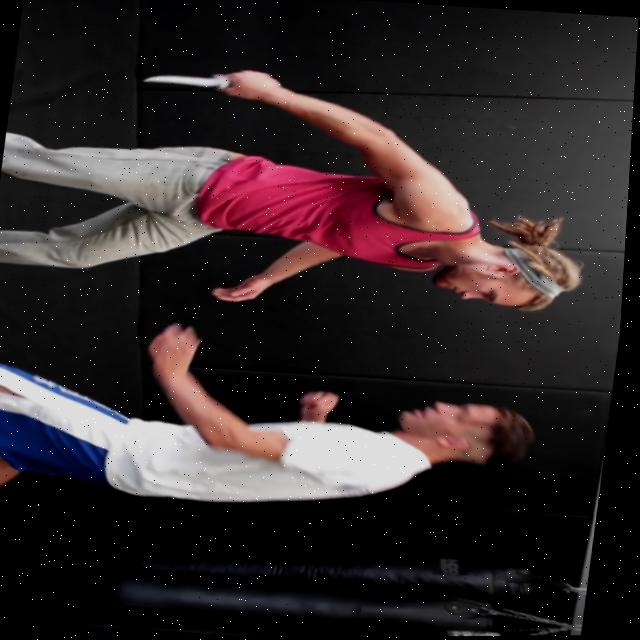knife: (143, 66, 232, 94)
